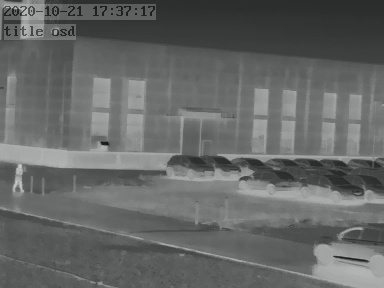person: (13, 162, 24, 194)
vehicle: (312, 224, 384, 278), (239, 169, 303, 191), (306, 173, 358, 200), (165, 153, 212, 179), (205, 153, 242, 177), (350, 173, 382, 200), (233, 155, 270, 172), (261, 155, 295, 169), (347, 156, 379, 170), (317, 156, 347, 170), (295, 156, 324, 169)
